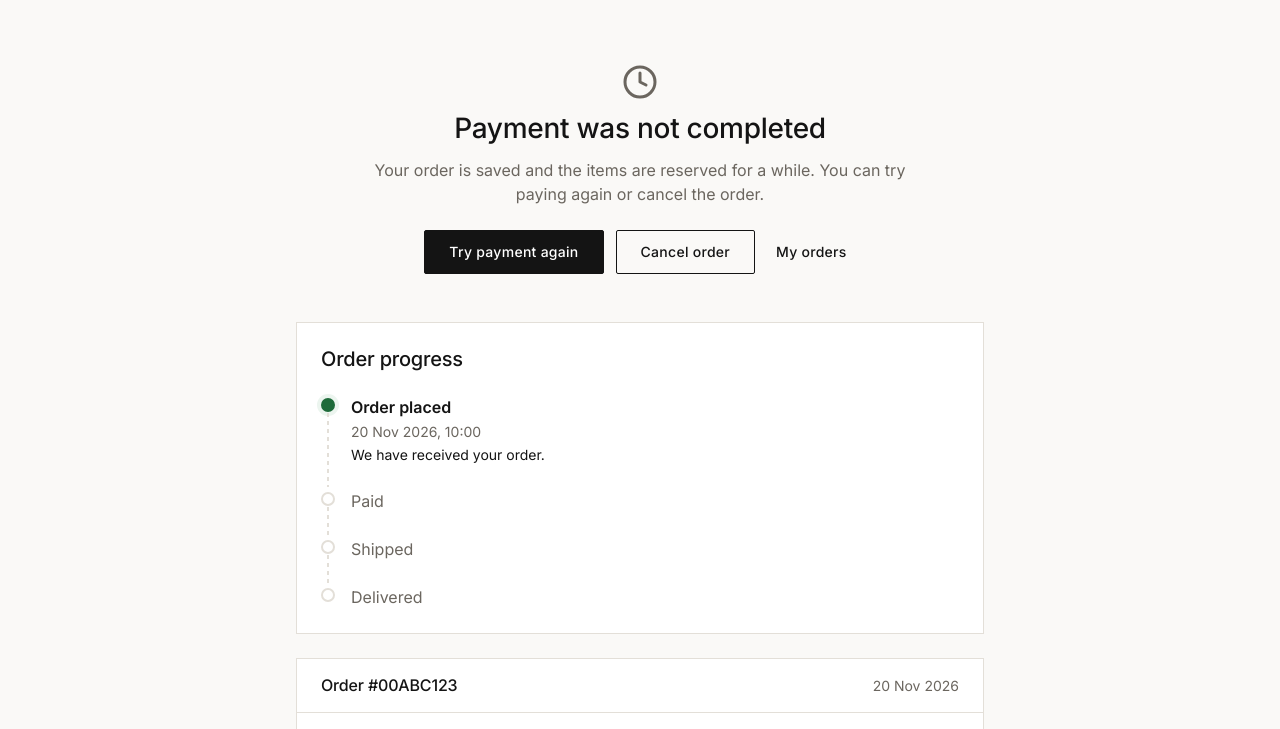
Test: CheckoutResult › cancels the order on request
Click the button "Cancel order" at [685, 252], box [616,230,755,274]
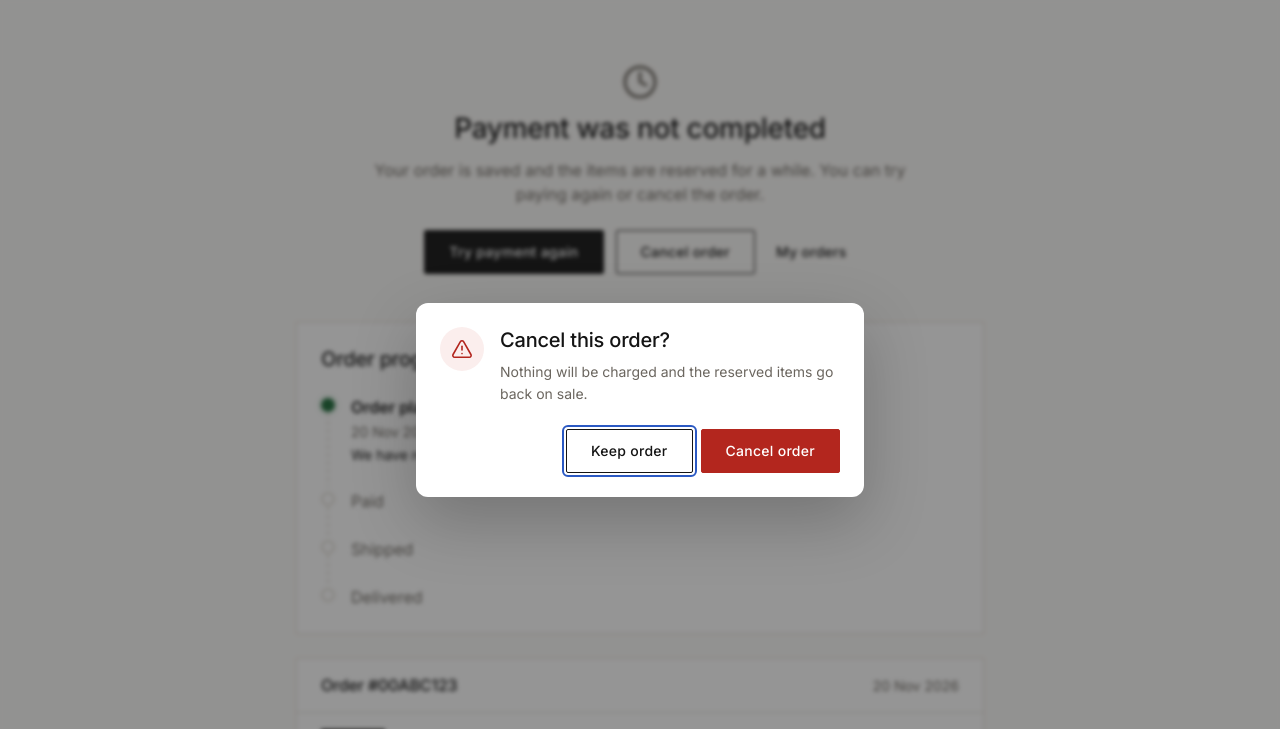
Result: the dialog "Cancel this order?" is shown at [416,303,864,497]
Click the button "Cancel order" at [770, 451], box [700,429,840,473]
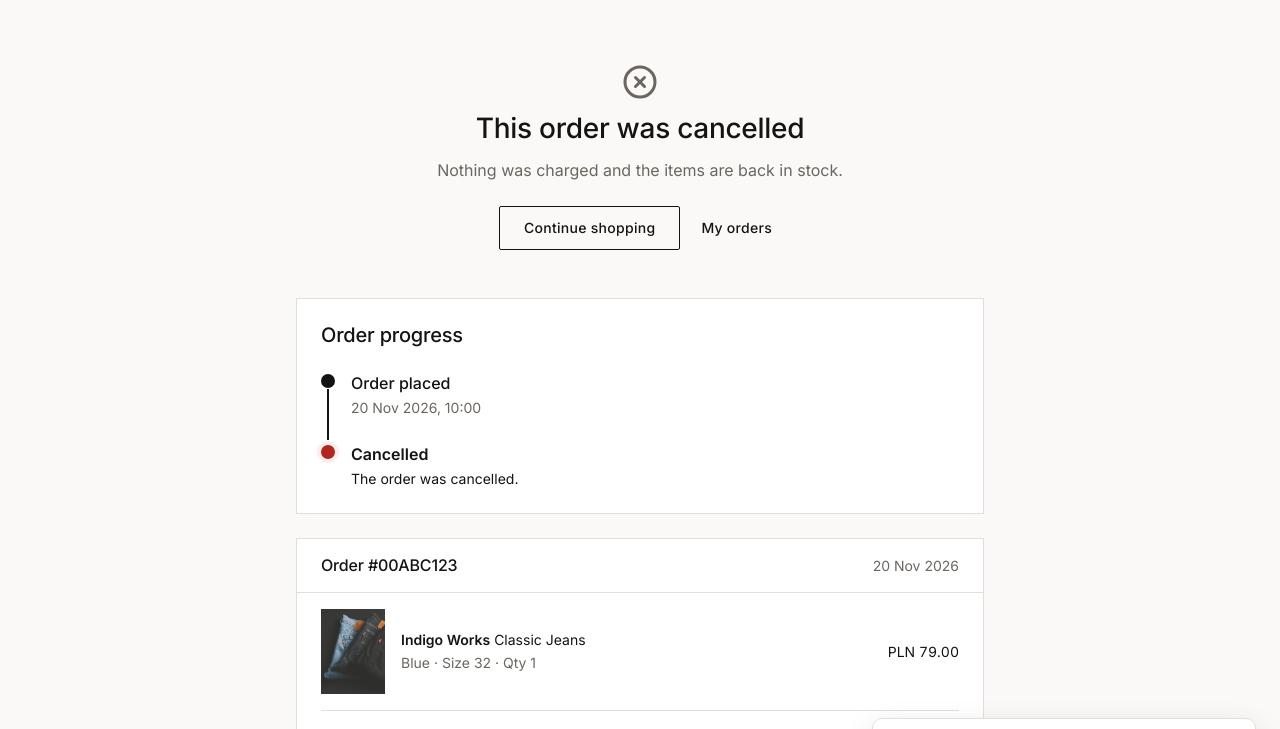
Result: the heading "This order was cancelled" is shown at [476,112,804,146]
Result: the button "Cancel order" is gone
